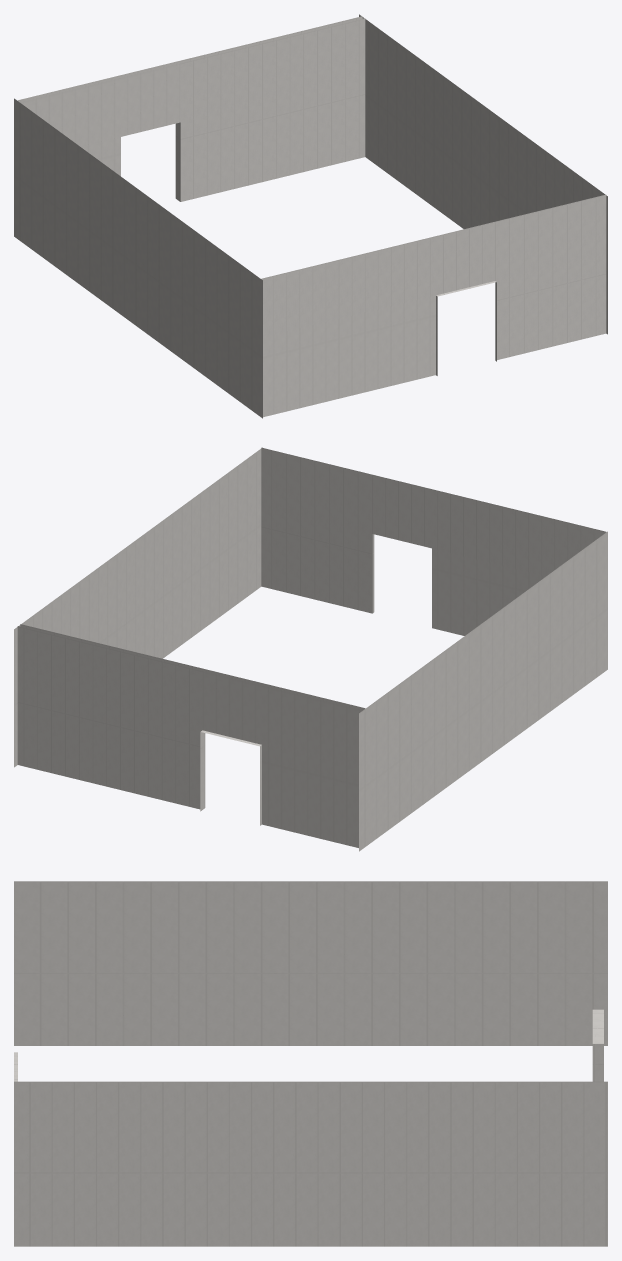
The model's file is wall.fbx.
3 views of the same model, one above another, from view 1: azimuth 30°, elevation 25°; view 2: azimuth 150°, elevation 25°; view 3: azimuth 270°, elevation 25° (orthographic). The views are drawn at different scales.
Parts seen in each view (by area): view 1: Plane015; view 2: Plane015; view 3: Plane015.
Boxes of the visible parts, x1,y1,x2,y2 form: Plane015: [14, 14, 607, 418]; Plane015: [14, 447, 607, 851]; Plane015: [14, 881, 607, 1246].
Bounding box in the file's own units: 1118 × 1399 × 431.
